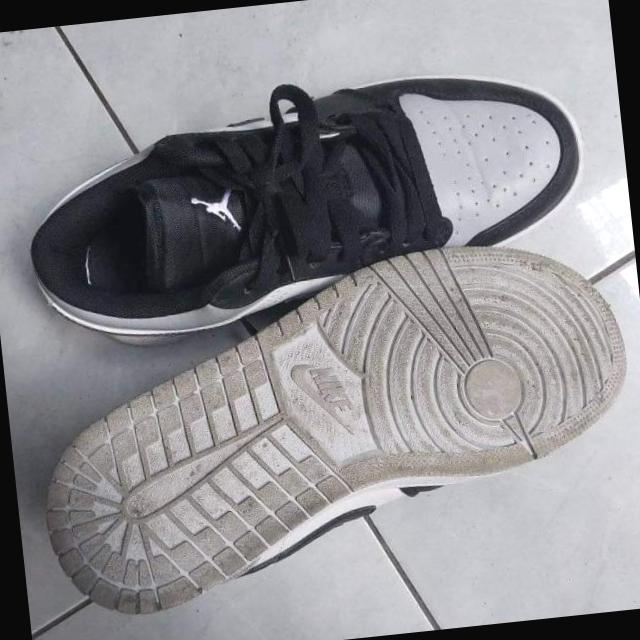nike_fake_jordan: (18, 51, 600, 356)
